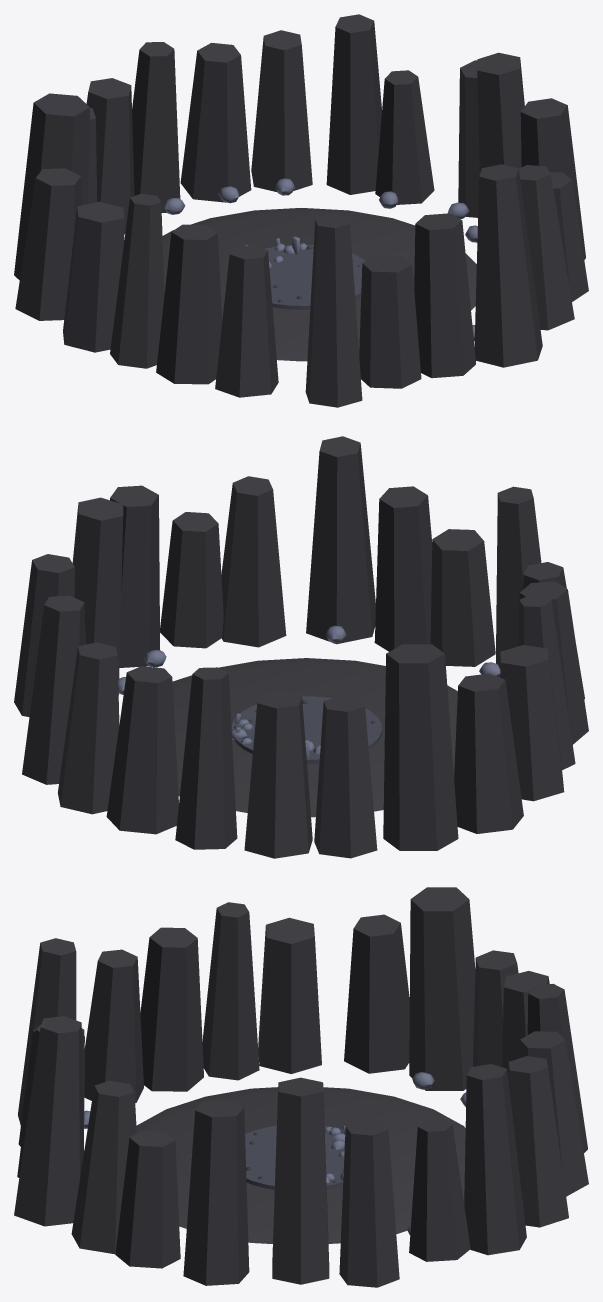
The model's file is boulder_ram.glb.
3 views of the same model, one above another, from view 1: azimuth 30°, elevation 25°; view 2: azimuth 150°, elevation 25°; view 3: azimuth 270°, elevation 25° (orthographic). The views are drawn at different scales.
Visible parts, largest first — view 1: BoulderRamGround; view 2: BoulderRamGround; view 3: BoulderRamGround.
Boxes of the visible parts, box(x1,y1,x2,y2) form: BoulderRamGround: box(14, 14, 588, 407); BoulderRamGround: box(14, 436, 588, 858); BoulderRamGround: box(14, 887, 588, 1287).
Size of the model in its own units: 46.4 by 16.46 by 45.63.
1 material, 1 textured.
